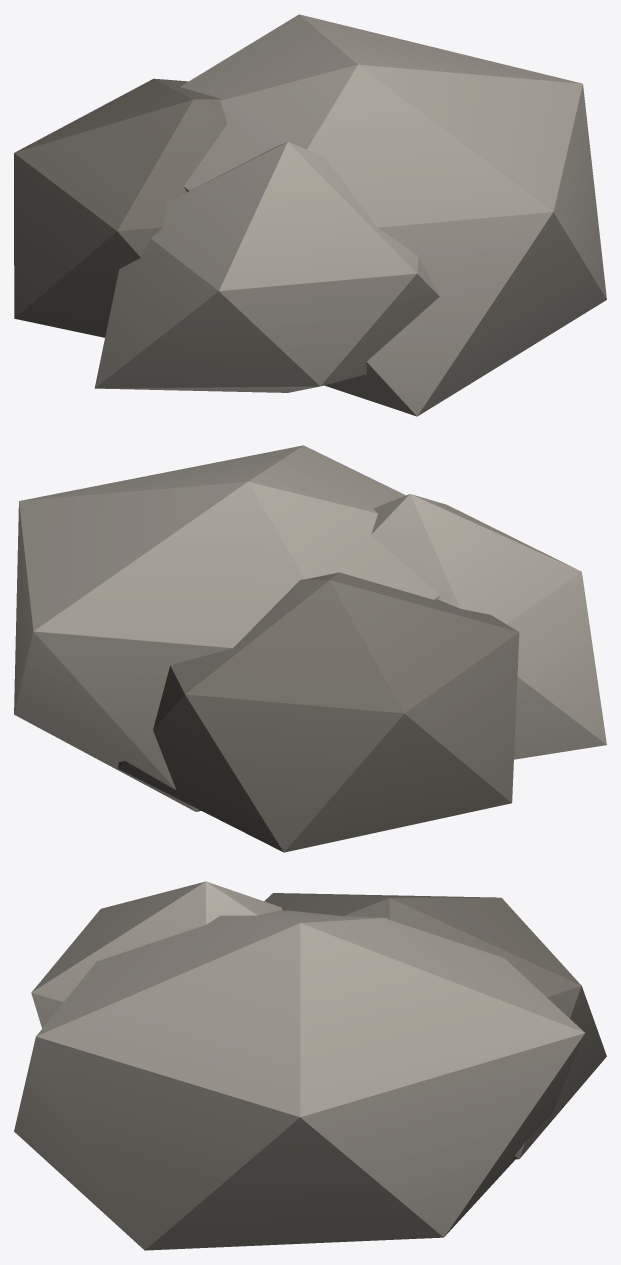
Rendered from rock_1.glb.
The picture shows the model from 3 angles, top to bottom: view 1: azimuth 30°, elevation 25°; view 2: azimuth 150°, elevation 25°; view 3: azimuth 270°, elevation 25°; orthographic projection. The views are drawn at different scales.
Parts seen in each view (by area): view 1: rock_1; view 2: rock_1; view 3: rock_1.
Part boxes in pixels (bbox=[...]): rock_1: bbox=[14, 14, 606, 416]; rock_1: bbox=[14, 445, 606, 852]; rock_1: bbox=[14, 881, 606, 1250].
Bounding box in the file's own units: 1.06 × 0.5403 × 0.9625.
Materials: 1 (1 with a texture image).
